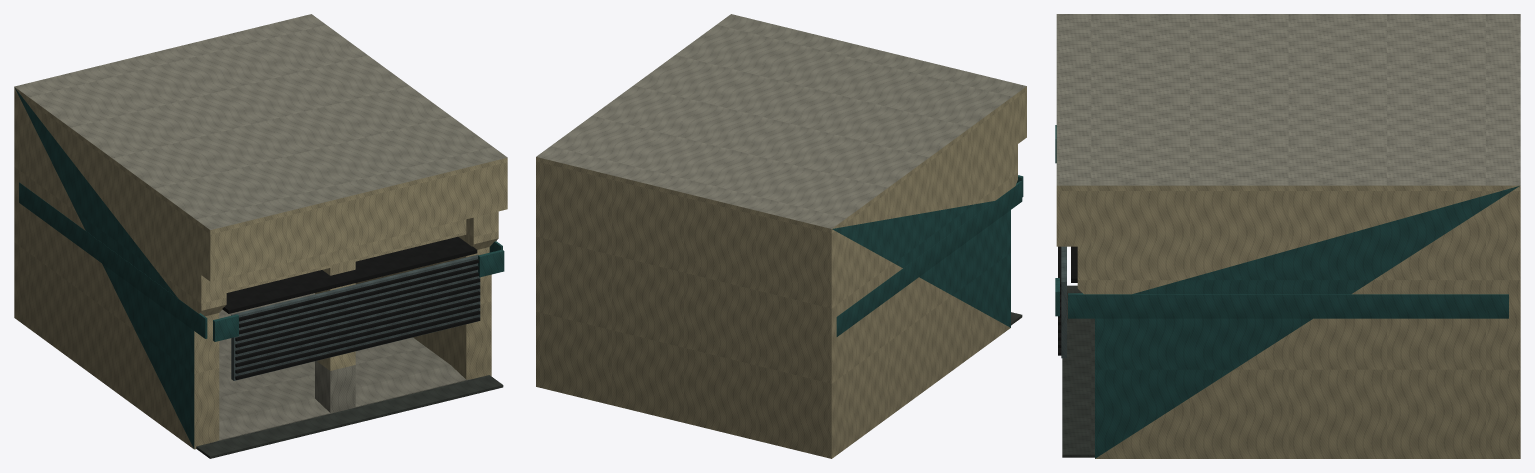
File: pit-garage-lod.glb
3 renders of one model, left to right at view 1: azimuth 30°, elevation 25°; view 2: azimuth 150°, elevation 25°; view 3: azimuth 270°, elevation 25°, orthographic. The views are drawn at different scales.
Visible parts, largest first — view 1: pitsGarage(Clone), garage-half-raised-roller, garage-dark-ceiling, garage-worn-floor, garage-side-stripe, garage-front-door-slat-4, garage-front-door-slat-6, garage-front-door-slat-2, garage-front-door-slat-0, garage-front-door-slat-1, garage-front-door-slat-3, garage-front-door-slat-5 (+5 smaller); view 2: pitsGarage(Clone), garage-side-stripe; view 3: pitsGarage(Clone), garage-side-stripe.001, garage-worn-floor, garage-half-raised-roller.
Part boxes in pixels (x1,y1,x2,y2): pitsGarage(Clone): [14, 14, 507, 449]; garage-half-raised-roller: [231, 254, 480, 380]; garage-dark-ceiling: [222, 236, 477, 313]; garage-worn-floor: [196, 375, 503, 458]; garage-side-stripe: [19, 182, 207, 338]; garage-front-door-slat-4: [235, 291, 480, 354]; garage-front-door-slat-6: [235, 278, 480, 341]; garage-front-door-slat-2: [235, 304, 480, 367]; garage-front-door-slat-0: [235, 317, 480, 379]; garage-front-door-slat-1: [235, 310, 480, 373]; garage-front-door-slat-3: [235, 298, 480, 360]; garage-front-door-slat-5: [235, 285, 480, 347]; pitsGarage(Clone): [536, 14, 1026, 458]; garage-side-stripe: [836, 181, 1022, 336]; pitsGarage(Clone): [1056, 14, 1520, 458]; garage-side-stripe.001: [1068, 293, 1508, 318]; garage-worn-floor: [1062, 285, 1094, 457]; garage-half-raised-roller: [1061, 246, 1066, 358].
Size of the model in its own units: 7.01 by 5.2 by 8.02.
6 materials, 6 textured.
